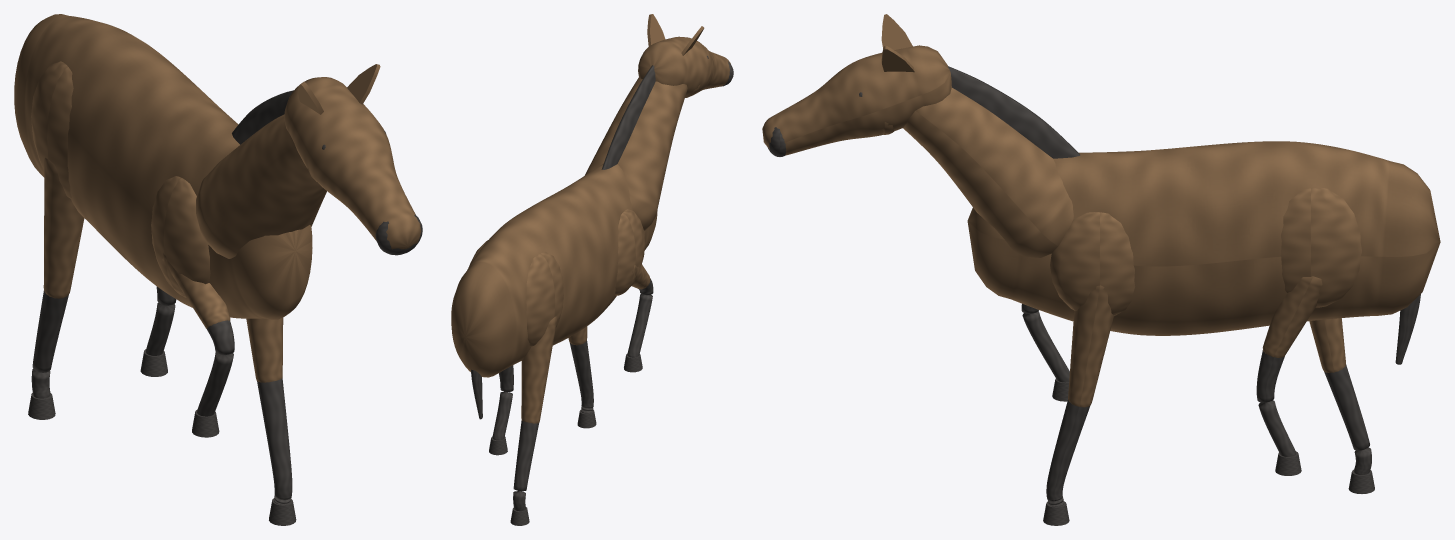
Rendered from farm-and-working-animals-hd-horse-trotting-a2db6c9e__29168.glb.
The picture shows the model from 3 angles, left to right: view 1: azimuth 30°, elevation 25°; view 2: azimuth 150°, elevation 25°; view 3: azimuth 270°, elevation 25°; orthographic projection. The views are drawn at different scales.
Visible parts, largest first — view 1: horse-trotting; view 2: horse-trotting; view 3: horse-trotting.
Boxes of the visible parts, x1=… form: horse-trotting: x1=14, y1=14, x2=422, y2=525; horse-trotting: x1=451, y1=14, x2=733, y2=525; horse-trotting: x1=762, y1=14, x2=1440, y2=525.
Bounding box in the file's own units: 0.5076 × 2.16 × 2.8.
Materials: 2 (2 with a texture image).
